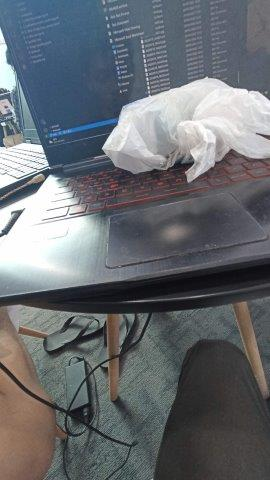plastik: (102, 78, 270, 181)
